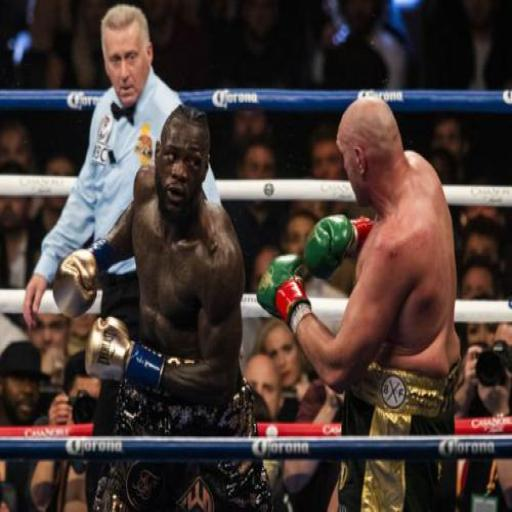boxing: (210, 52, 512, 512), (80, 106, 271, 512)
